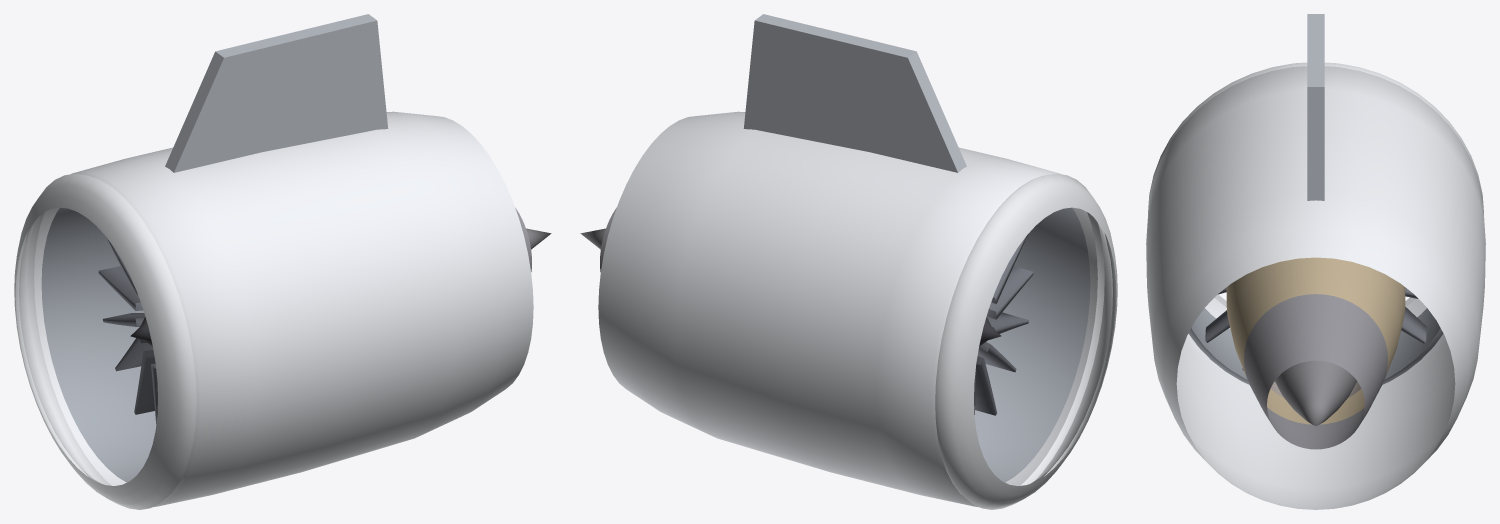
Rendered from engine-leap-1a.glb.
3 renders of one model, left to right at view 1: azimuth 30°, elevation 25°; view 2: azimuth 150°, elevation 25°; view 3: azimuth 270°, elevation 25°, orthographic. The views are drawn at different scales.
Parts seen in each view (by area): view 1: 01_Nacelle_Cowl, 10_Pylon, 01b_Inlet_Lip, 02_Fan_Case, 04_Fan_Blades; view 2: 01_Nacelle_Cowl, 10_Pylon, 01b_Inlet_Lip, 02_Fan_Case, 04_Fan_Blades; view 3: 01_Nacelle_Cowl, 08_Exhaust_Nozzle, 05_Core_Casing, 09_Exhaust_Plug, 02_Fan_Case, 10_Pylon, 01b_Inlet_Lip, 04_Fan_Blades.
Boxes of the visible parts, x1=… form: 01_Nacelle_Cowl: x1=19, y1=111, x2=533, y2=507; 10_Pylon: x1=165, y1=14, x2=388, y2=172; 01b_Inlet_Lip: x1=14, y1=173, x2=196, y2=509; 02_Fan_Case: x1=41, y1=207, x2=156, y2=482; 04_Fan_Blades: x1=98, y1=236, x2=157, y2=423; 01_Nacelle_Cowl: x1=598, y1=111, x2=1112, y2=507; 10_Pylon: x1=743, y1=14, x2=966, y2=172; 01b_Inlet_Lip: x1=935, y1=173, x2=1117, y2=509; 02_Fan_Case: x1=974, y1=207, x2=1090, y2=482; 04_Fan_Blades: x1=974, y1=234, x2=1033, y2=415; 01_Nacelle_Cowl: x1=1146, y1=66, x2=1485, y2=509; 08_Exhaust_Nozzle: x1=1244, y1=294, x2=1387, y2=449; 05_Core_Casing: x1=1226, y1=257, x2=1405, y2=424; 09_Exhaust_Plug: x1=1275, y1=360, x2=1356, y2=425; 02_Fan_Case: x1=1188, y1=308, x2=1443, y2=384; 10_Pylon: x1=1307, y1=14, x2=1324, y2=200; 01b_Inlet_Lip: x1=1148, y1=62, x2=1483, y2=307; 04_Fan_Blades: x1=1205, y1=287, x2=1426, y2=370.
Bounding box in the file's own units: 3.64 × 3.12 × 2.36.
